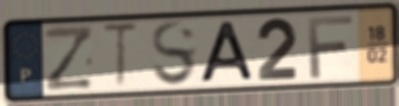2: (255, 15, 301, 84)
A: (195, 19, 257, 84)
F: (305, 13, 356, 80)
S: (149, 18, 199, 89)
T: (99, 21, 143, 92)
Z: (43, 23, 96, 94)
